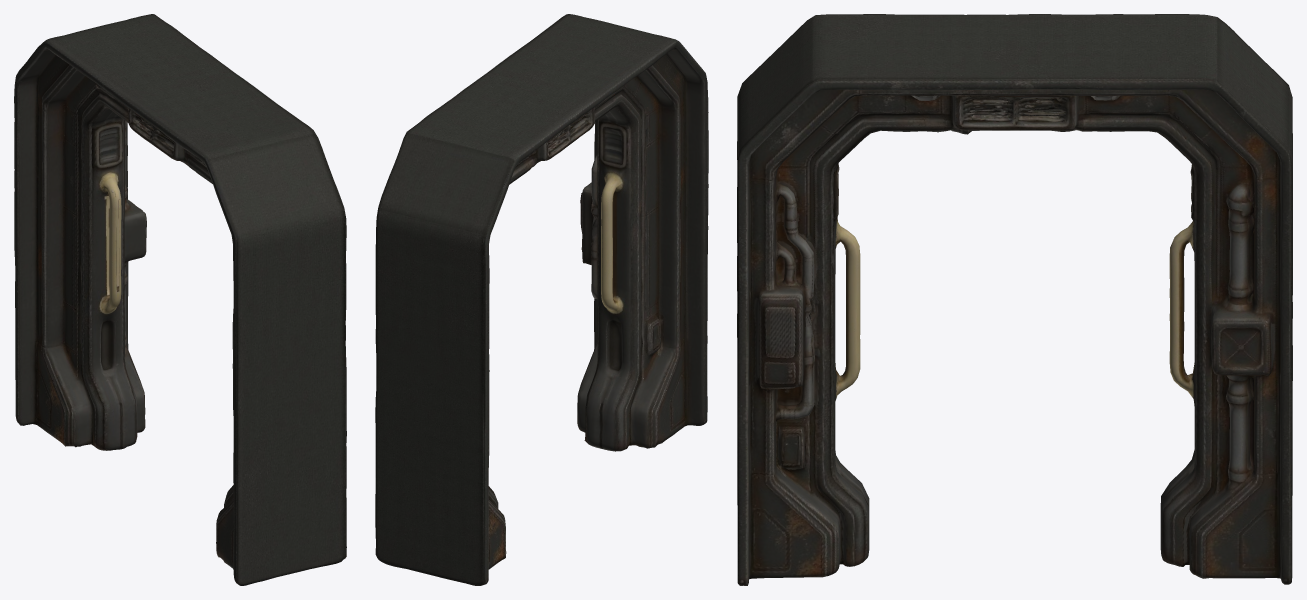
The model's file is sci-fi+door+3d+model (1).glb.
3 views of the same model, side by side, from view 1: azimuth 30°, elevation 25°; view 2: azimuth 150°, elevation 25°; view 3: azimuth 270°, elevation 25° (orthographic). The views are drawn at different scales.
Visible parts, largest first — view 1: tripo_node_1c270adb-ffda-4a97-9658-4d00205c9c01; view 2: tripo_node_1c270adb-ffda-4a97-9658-4d00205c9c01; view 3: tripo_node_1c270adb-ffda-4a97-9658-4d00205c9c01.
Boxes of the visible parts, <box> form: tripo_node_1c270adb-ffda-4a97-9658-4d00205c9c01: <box>14,14,346,585</box>; tripo_node_1c270adb-ffda-4a97-9658-4d00205c9c01: <box>375,14,708,585</box>; tripo_node_1c270adb-ffda-4a97-9658-4d00205c9c01: <box>737,14,1292,585</box>.
Size of the model in its own units: 0.2786 by 0.9792 by 0.9686.
1 material, 1 textured.
